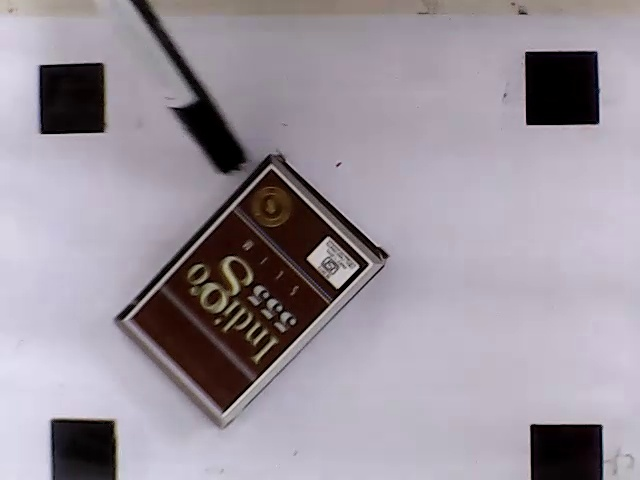BEX: (127, 166, 371, 415)
